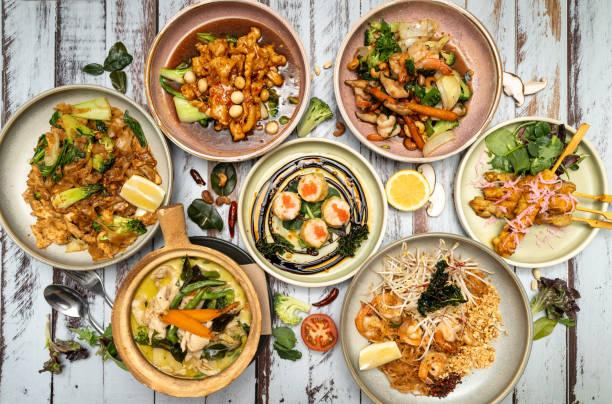Braised Crucian Carp: (340, 233, 530, 402), (0, 83, 172, 268), (111, 206, 264, 396), (330, 1, 495, 164), (142, 2, 305, 164), (456, 118, 602, 266), (238, 137, 382, 286)
